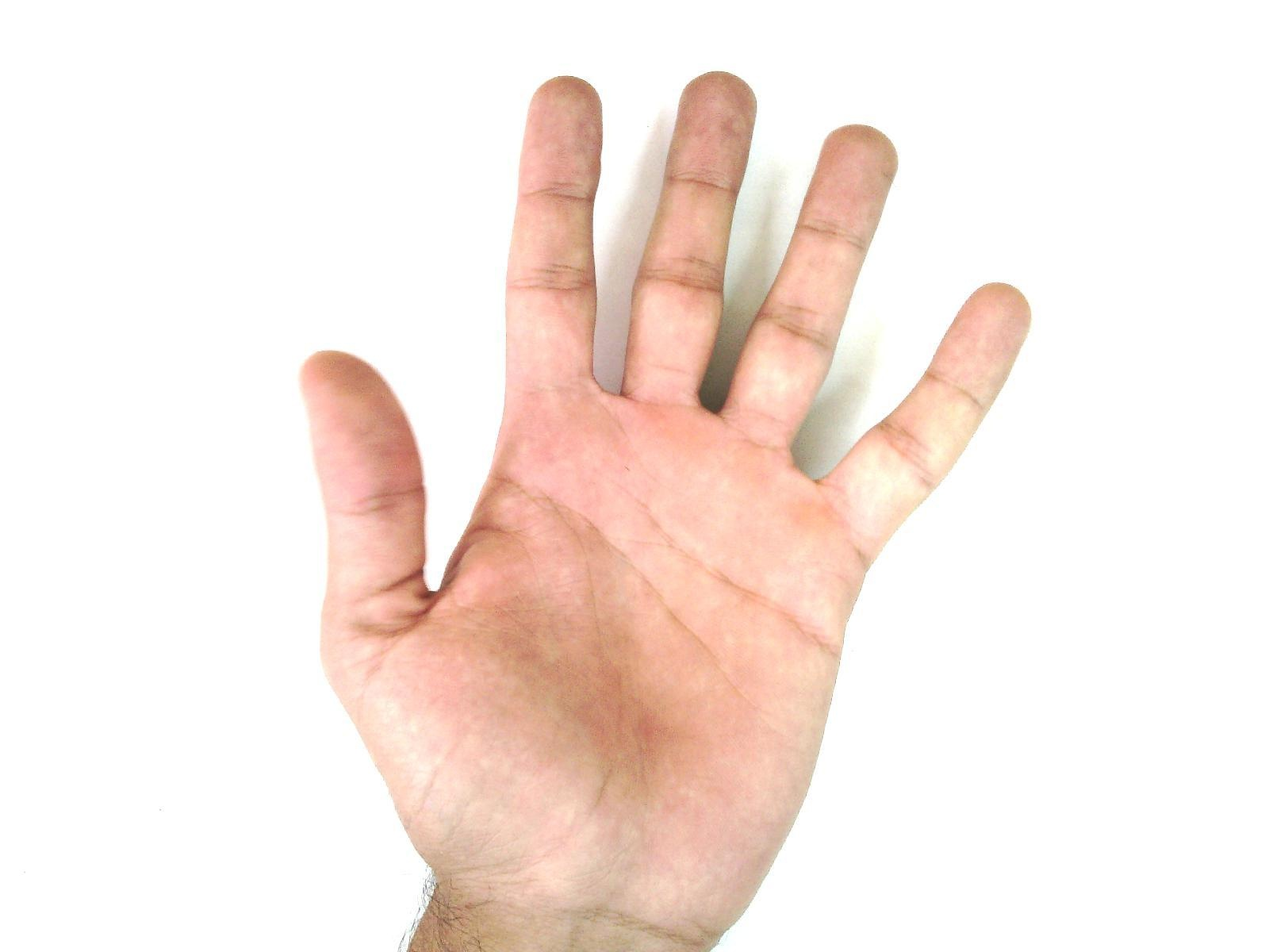open_palm: (296, 69, 1034, 948)
